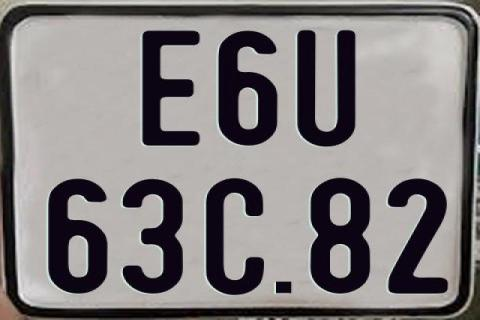0: (389, 177, 454, 295), (218, 30, 280, 150), (309, 178, 371, 298), (120, 177, 184, 292), (48, 176, 108, 295)
C: (206, 177, 267, 296)
E: (142, 29, 206, 150)
U: (296, 31, 358, 151)
